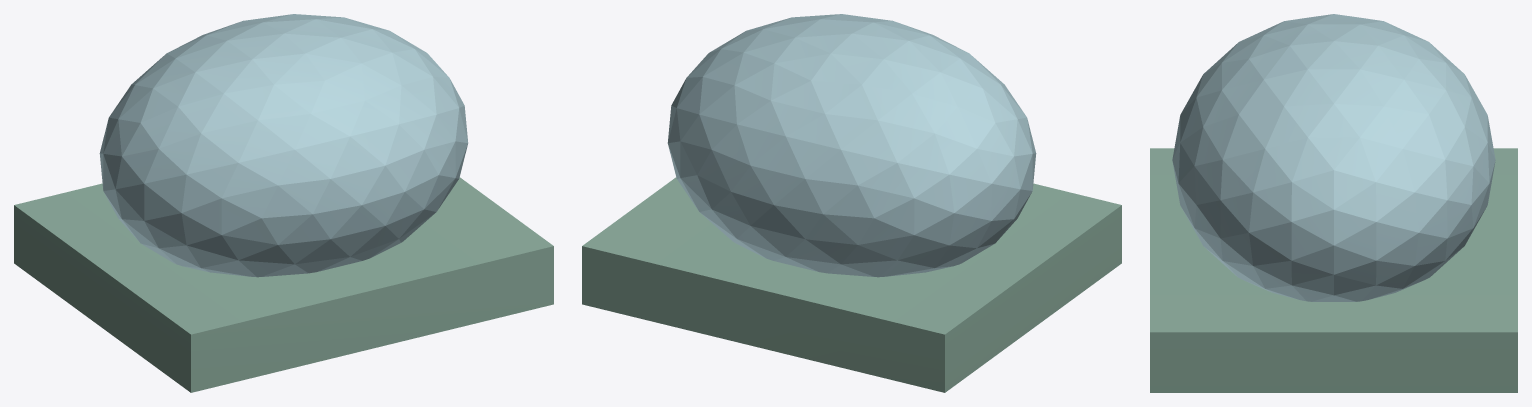
File: observatory-03.glb
The picture shows the model from 3 angles, left to right: view 1: azimuth 30°, elevation 25°; view 2: azimuth 150°, elevation 25°; view 3: azimuth 270°, elevation 25°; orthographic projection. The views are drawn at different scales.
Parts seen in each view (by area): view 1: world; view 2: world; view 3: world.
Boxes of the visible parts, x1,y1,x2,y2 form: world: [14, 14, 553, 392]; world: [582, 14, 1121, 392]; world: [1150, 14, 1517, 392].
Bounding box in the file's own units: 1.3 × 0.8579 × 1.1.
